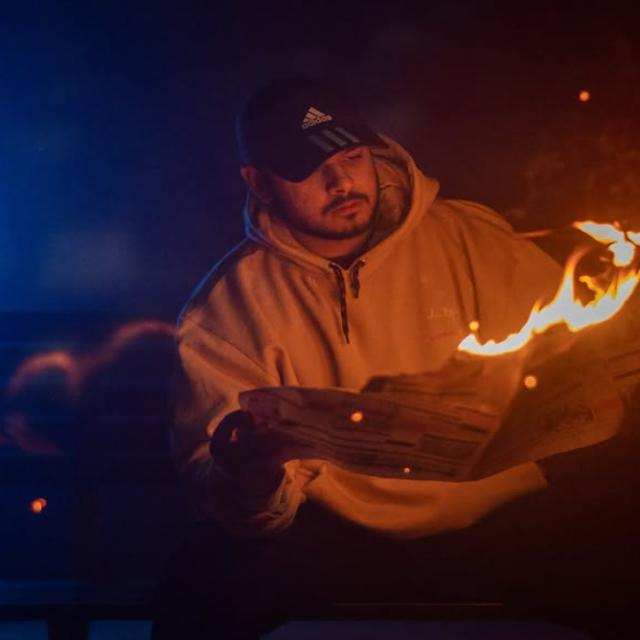fire: (457, 270, 640, 354), (573, 222, 635, 266)
